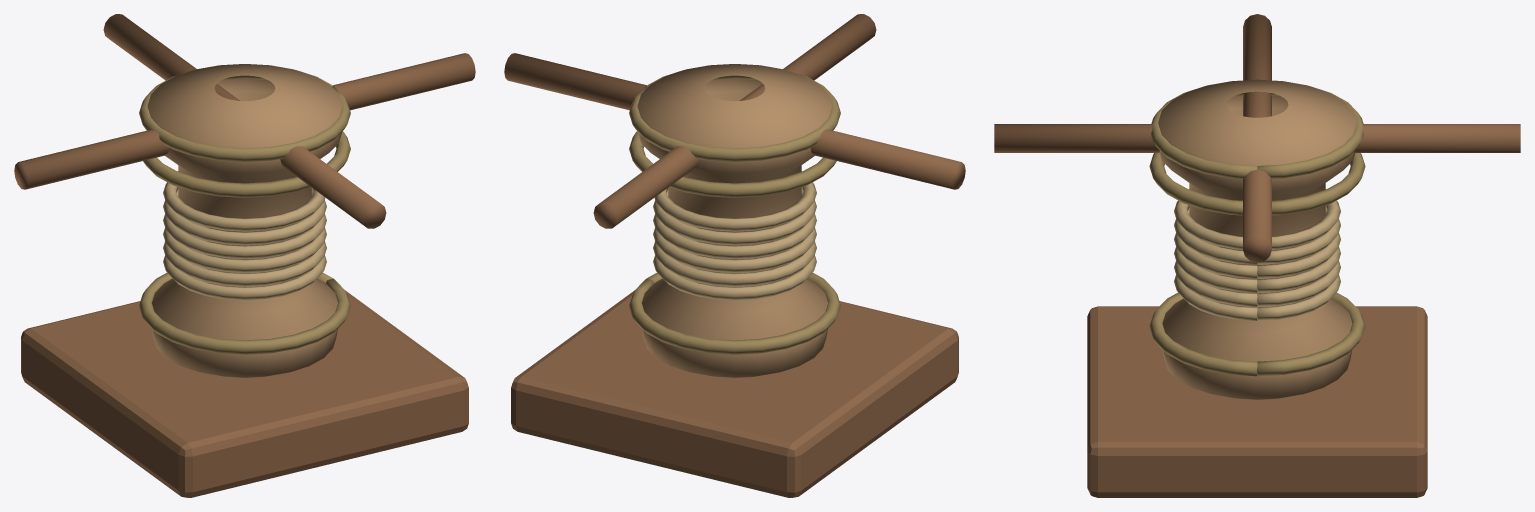
Rendered from harbor-capstan.glb.
The picture shows the model from 3 angles, left to right: view 1: azimuth 30°, elevation 25°; view 2: azimuth 150°, elevation 25°; view 3: azimuth 270°, elevation 25°; orthographic projection.
Parts seen in each view (by area): view 1: harbor-capstan__wood, harbor-capstan__woodlight, harbor-capstan__rope, harbor-capstan__bronze; view 2: harbor-capstan__wood, harbor-capstan__woodlight, harbor-capstan__rope, harbor-capstan__bronze; view 3: harbor-capstan__wood, harbor-capstan__woodlight, harbor-capstan__rope, harbor-capstan__bronze.
Boxes of the visible parts, x1=… form: harbor-capstan__wood: x1=14, y1=14, x2=475, y2=497; harbor-capstan__woodlight: x1=147, y1=64, x2=342, y2=378; harbor-capstan__rope: x1=163, y1=171, x2=326, y2=300; harbor-capstan__bronze: x1=139, y1=70, x2=350, y2=354; harbor-capstan__wood: x1=504, y1=14, x2=965, y2=497; harbor-capstan__woodlight: x1=637, y1=64, x2=832, y2=378; harbor-capstan__rope: x1=653, y1=171, x2=816, y2=300; harbor-capstan__bronze: x1=629, y1=70, x2=840, y2=354; harbor-capstan__wood: x1=994, y1=14, x2=1520, y2=497; harbor-capstan__woodlight: x1=1158, y1=79, x2=1356, y2=400; harbor-capstan__rope: x1=1174, y1=189, x2=1340, y2=320; harbor-capstan__bronze: x1=1149, y1=86, x2=1365, y2=376.
Size of the model in its own units: 1.7 by 1.16 by 1.7.
